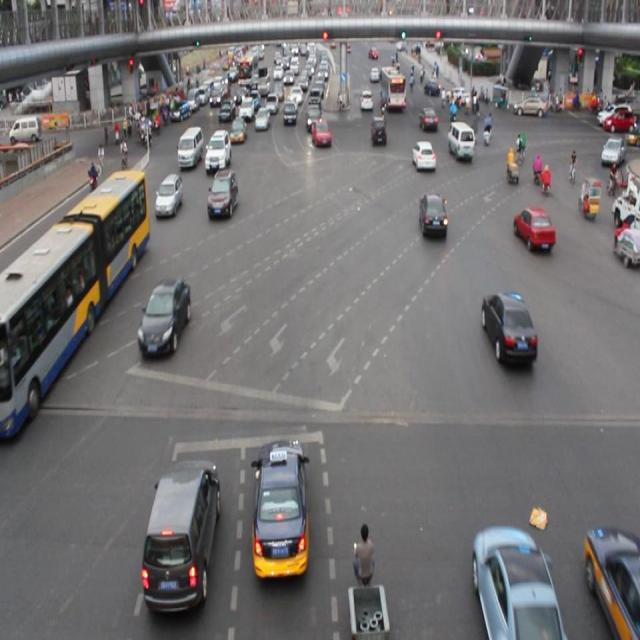car: (472, 525, 559, 640), (251, 434, 311, 582), (583, 527, 640, 640), (137, 277, 190, 357), (480, 289, 535, 365), (206, 168, 239, 223), (514, 204, 553, 250), (419, 190, 449, 240), (154, 173, 183, 219), (204, 130, 230, 172), (310, 116, 333, 152), (411, 140, 436, 172), (369, 113, 388, 148), (420, 106, 438, 132), (228, 118, 246, 144), (254, 105, 270, 132)
truck: (141, 456, 220, 608), (177, 126, 202, 172), (446, 120, 474, 160)
van: (1, 170, 143, 438)
